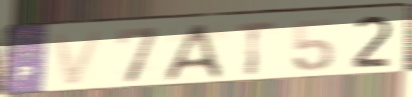2: (351, 14, 394, 69)
5: (290, 16, 337, 74)
7: (114, 24, 162, 86)
A: (161, 21, 226, 84)
T: (232, 19, 279, 78)
V: (49, 27, 110, 89)
